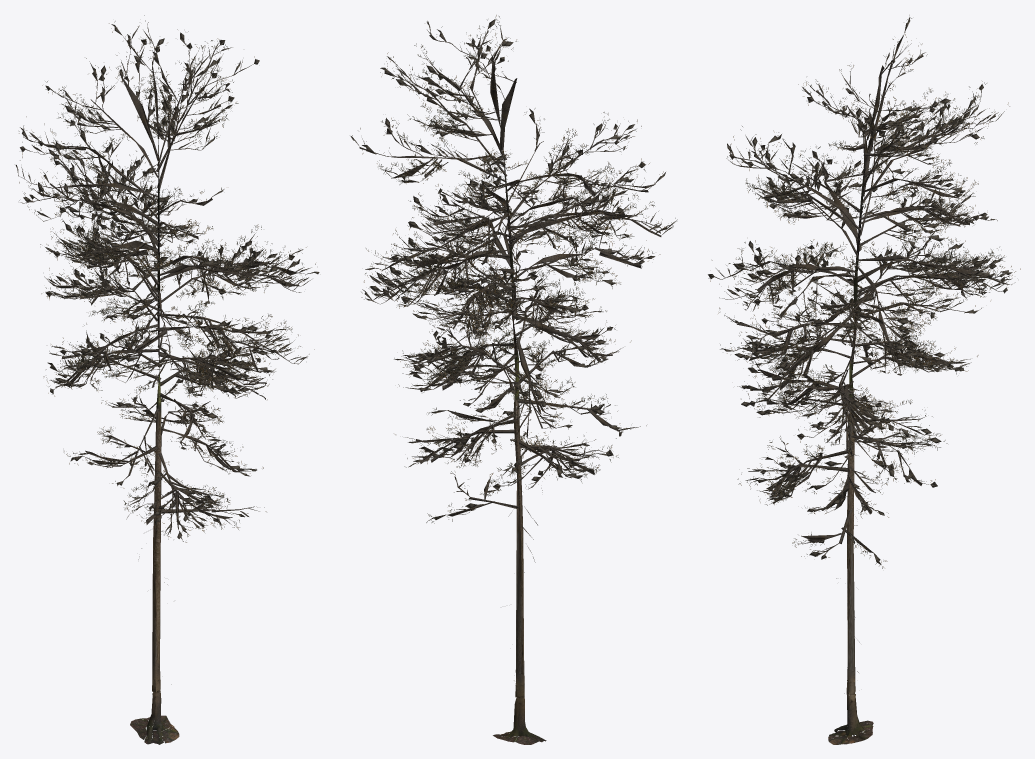
The model's file is pine.glb.
3 views of the same model, side by side, from view 1: azimuth 30°, elevation 25°; view 2: azimuth 150°, elevation 25°; view 3: azimuth 270°, elevation 25° (orthographic). The views are drawn at different scales.
Parts seen in each view (by area): view 1: pine_tree_01_a_LOD0; view 2: pine_tree_01_a_LOD0; view 3: pine_tree_01_a_LOD0.
Part boxes in pixels (x1,y1,x2,y2): pine_tree_01_a_LOD0: [15, 15, 319, 744]; pine_tree_01_a_LOD0: [350, 15, 677, 744]; pine_tree_01_a_LOD0: [708, 15, 1020, 744].
Size of the model in its own units: 7.4 by 20.28 by 8.05.
Materials: 4 (4 with a texture image).
